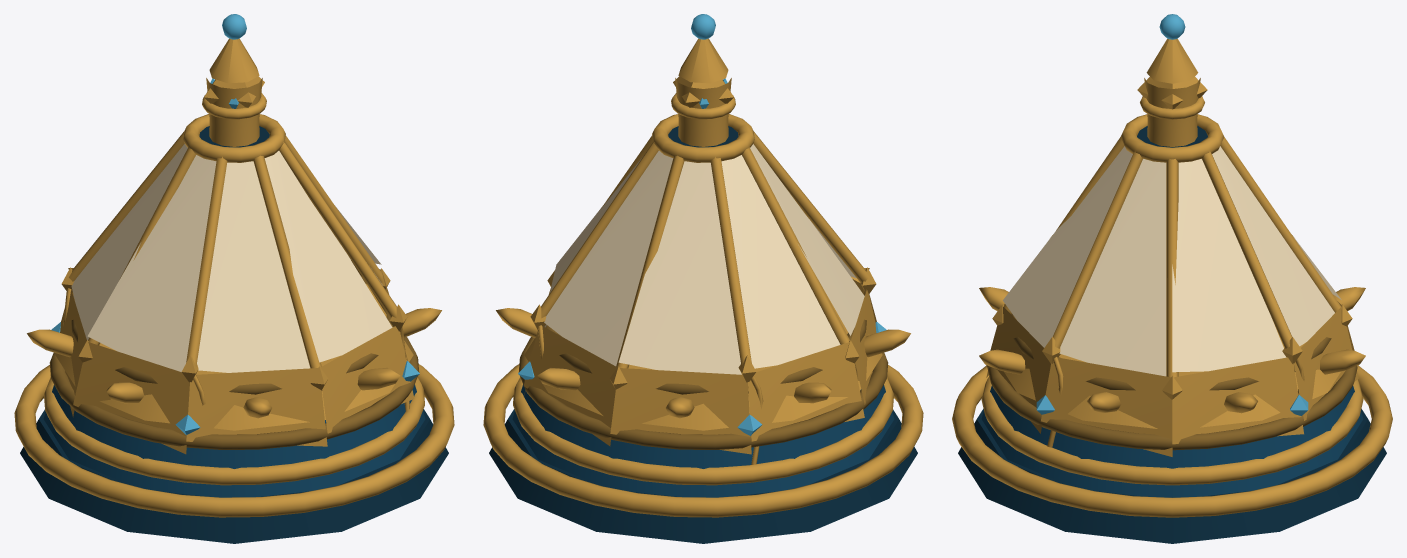
File: asset.glb
3 renders of one model, left to right at view 1: azimuth 30°, elevation 25°; view 2: azimuth 150°, elevation 25°; view 3: azimuth 270°, elevation 25°, orthographic.
Parts seen in each view (by area): view 1: FacetedLampShade, OrnateLamp, Pedestal, GoldValance, Finial, LampShade; view 2: FacetedLampShade, OrnateLamp, Pedestal, GoldValance, Finial, LampShade; view 3: FacetedLampShade, OrnateLamp, Pedestal, GoldValance, Finial, LampShade.
Boxes of the visible parts, <box> form: FacetedLampShade: <box>71,144,392,372</box>; OrnateLamp: <box>14,78,454,517</box>; Pedestal: <box>20,268,448,543</box>; GoldValance: <box>60,260,414,454</box>; Finial: <box>204,14,264,108</box>; LampShade: <box>51,126,419,434</box>; FacetedLampShade: <box>544,144,864,374</box>; OrnateLamp: <box>483,78,923,517</box>; Pedestal: <box>489,268,917,543</box>; GoldValance: <box>523,279,876,454</box>; Finial: <box>673,14,733,108</box>; LampShade: <box>518,126,886,435</box>; FacetedLampShade: <box>1003,146,1341,376</box>; OrnateLamp: <box>952,78,1392,517</box>; Pedestal: <box>958,287,1386,543</box>; GoldValance: <box>986,301,1358,456</box>; Finial: <box>1137,14,1207,109</box>; LampShade: <box>992,126,1352,415</box>.
Size of the model in its own units: 1.87 by 2.1 by 1.87.
